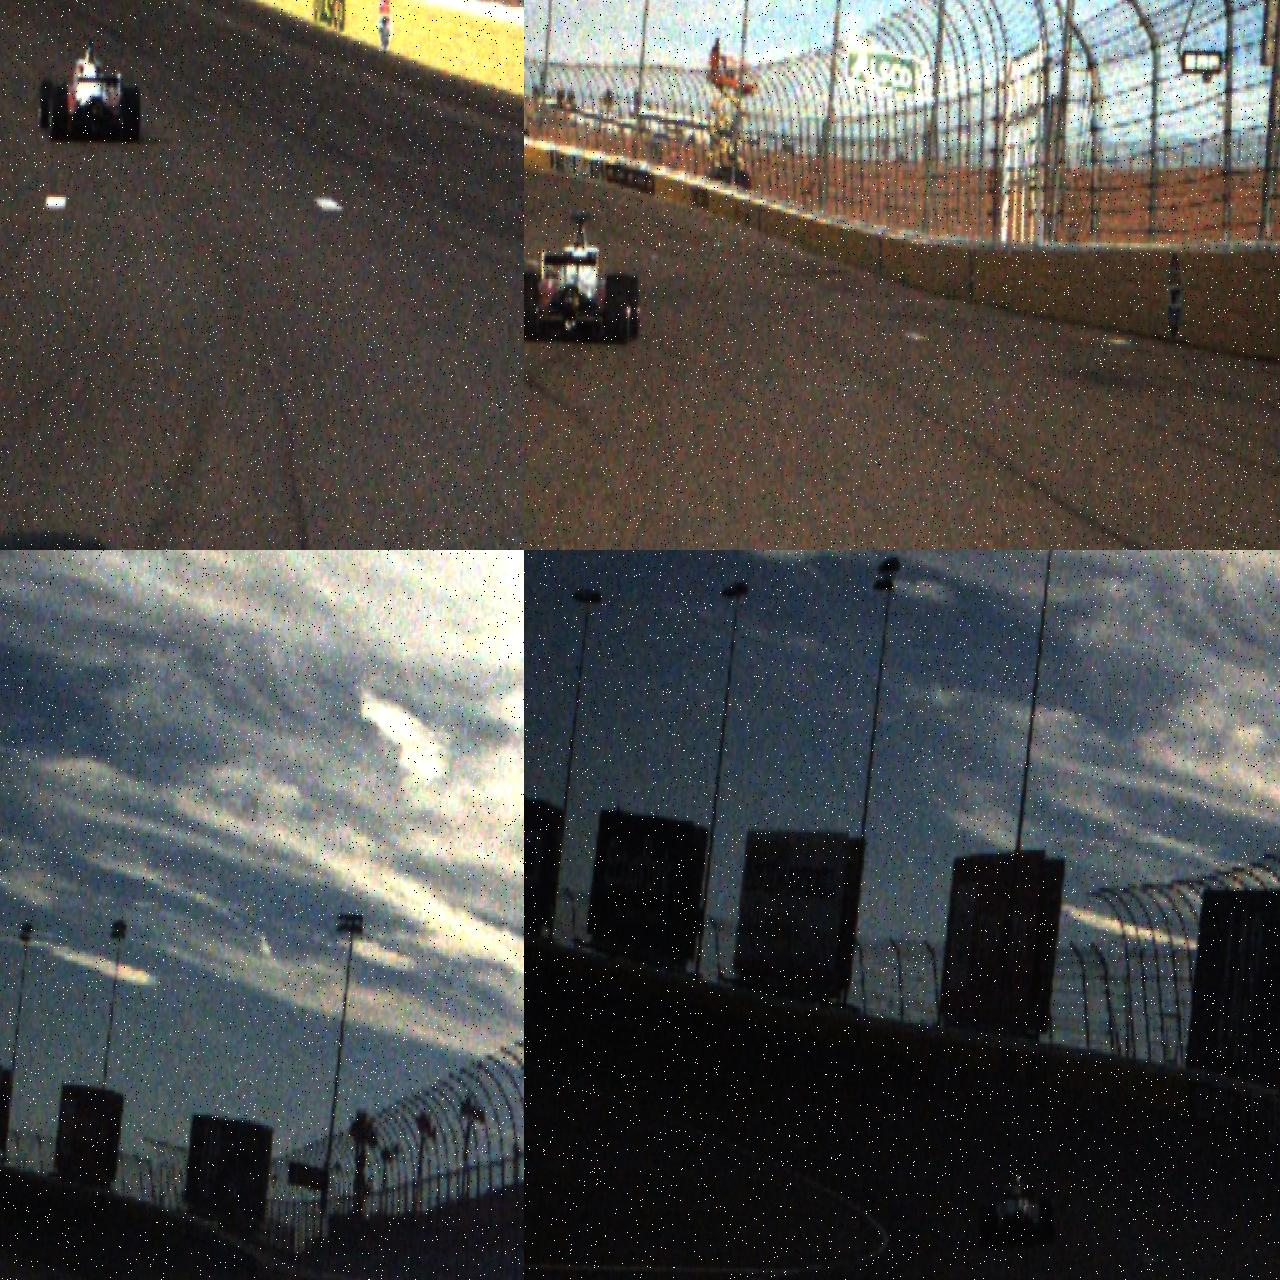AV: (524, 212, 642, 343), (38, 34, 143, 144), (978, 1166, 1055, 1252)
Wheel: (605, 274, 631, 343), (622, 277, 641, 340), (48, 87, 69, 142), (121, 88, 141, 143), (524, 272, 538, 341), (980, 1205, 996, 1251), (39, 77, 53, 129), (1041, 1198, 1055, 1247)
